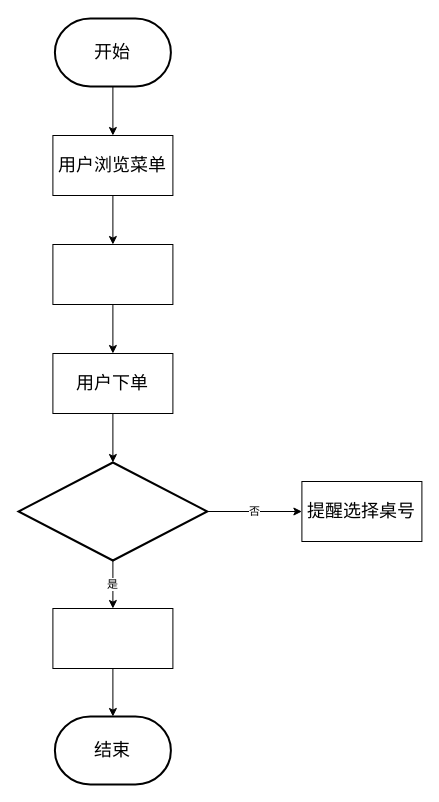
Image size: 439x802. Some labels were removed from this diagram. Each missing label, with the centre of its shape:
"支付完成并生成订单" goes at pixel 112 638.
"用户是否选择桌号" goes at pixel 112 511.
"用户选择菜品加入购物车" goes at pixel 112 274.
